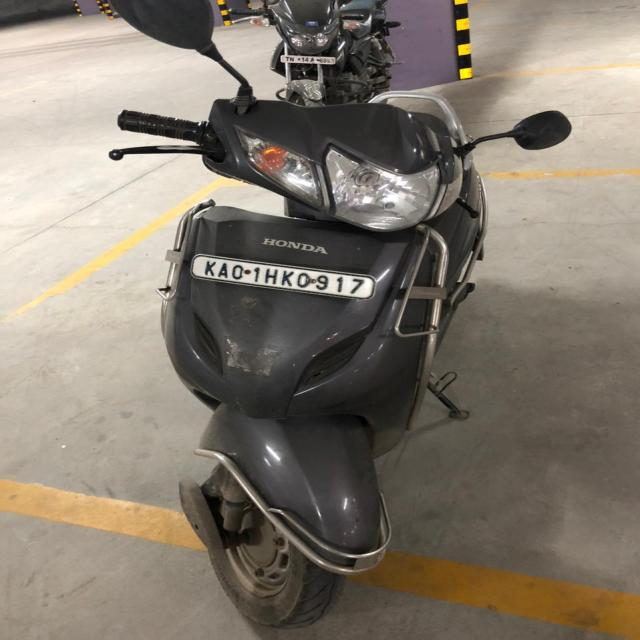number plate: (188, 253, 377, 301)
